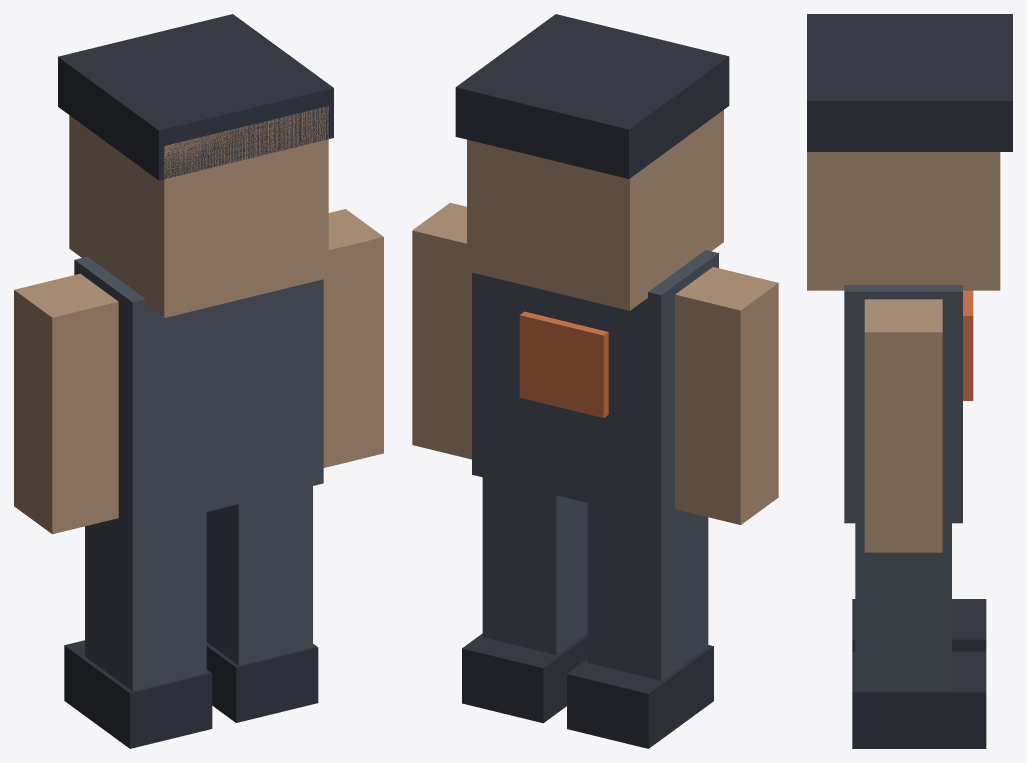
The model's file is runner.glb.
The picture shows the model from 3 angles, left to right: view 1: azimuth 30°, elevation 25°; view 2: azimuth 150°, elevation 25°; view 3: azimuth 270°, elevation 25°; orthographic projection. The views are drawn at different scales.
Visible parts, largest first — view 1: torso, head, hair, arm-left, leg-left, leg-right, arm-right, boot-left, boot-right; view 2: torso, head, hair, arm-left, leg-left, leg-right, arm-right, boot-left, chest-mark, boot-right; view 3: hair, head, arm-right, leg-right, torso, boot-right, boot-left, chest-mark.
Part boxes in pixels (x1=…): torso: x1=74, y1=256, x2=323, y2=529; head: x1=69, y1=106, x2=328, y2=317; hair: x1=58, y1=14, x2=333, y2=180; arm-left: x1=14, y1=273, x2=118, y2=534; leg-left: x1=85, y1=512, x2=206, y2=691; leg-right: x1=206, y1=486, x2=312, y2=665; arm-right: x1=323, y1=209, x2=383, y2=467; boot-left: x1=64, y1=640, x2=212, y2=748; boot-right: x1=206, y1=642, x2=318, y2=722; torso: x1=472, y1=250, x2=718, y2=520; head: x1=467, y1=110, x2=723, y2=310; hair: x1=455, y1=14, x2=729, y2=178; arm-left: x1=675, y1=267, x2=778, y2=524; leg-left: x1=587, y1=503, x2=708, y2=680; leg-right: x1=482, y1=477, x2=587, y2=654; arm-right: x1=412, y1=202, x2=471, y2=459; boot-left: x1=567, y1=645, x2=713, y2=748; chest-mark: x1=519, y1=311, x2=608, y2=417; boot-right: x1=462, y1=632, x2=587, y2=723; hair: x1=807, y1=14, x2=1012, y2=151; head: x1=807, y1=152, x2=1000, y2=290; arm-right: x1=864, y1=299, x2=942, y2=552; leg-right: x1=855, y1=523, x2=951, y2=690; torso: x1=844, y1=285, x2=962, y2=523; boot-right: x1=852, y1=651, x2=986, y2=748; boot-left: x1=852, y1=599, x2=986, y2=651; chest-mark: x1=963, y1=290, x2=973, y2=400.
Bounding box in the file's own units: 1.25 × 2.28 × 0.66.
